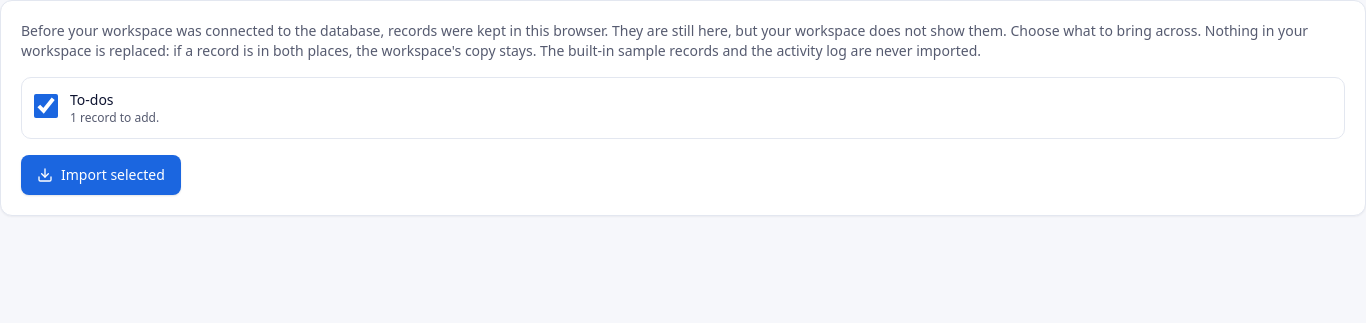
Test case: Import from this browser › tells a viewer nothing was imported, and offers no way to remove the browser's copy
The width and height of the screenshot is (1366, 323).
Click the button with test id "import-run" at (101, 175), box [21, 155, 181, 195]
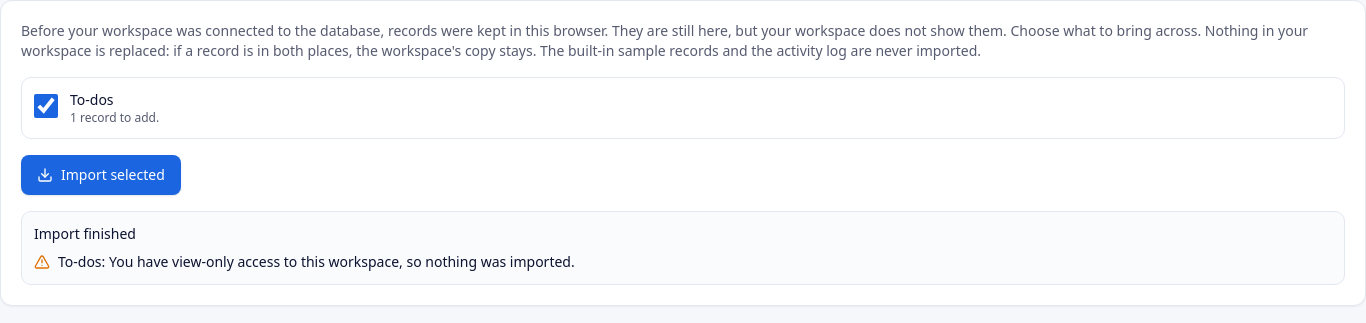
Check: the text "view-only access" is shown, box [109, 252, 575, 271]
